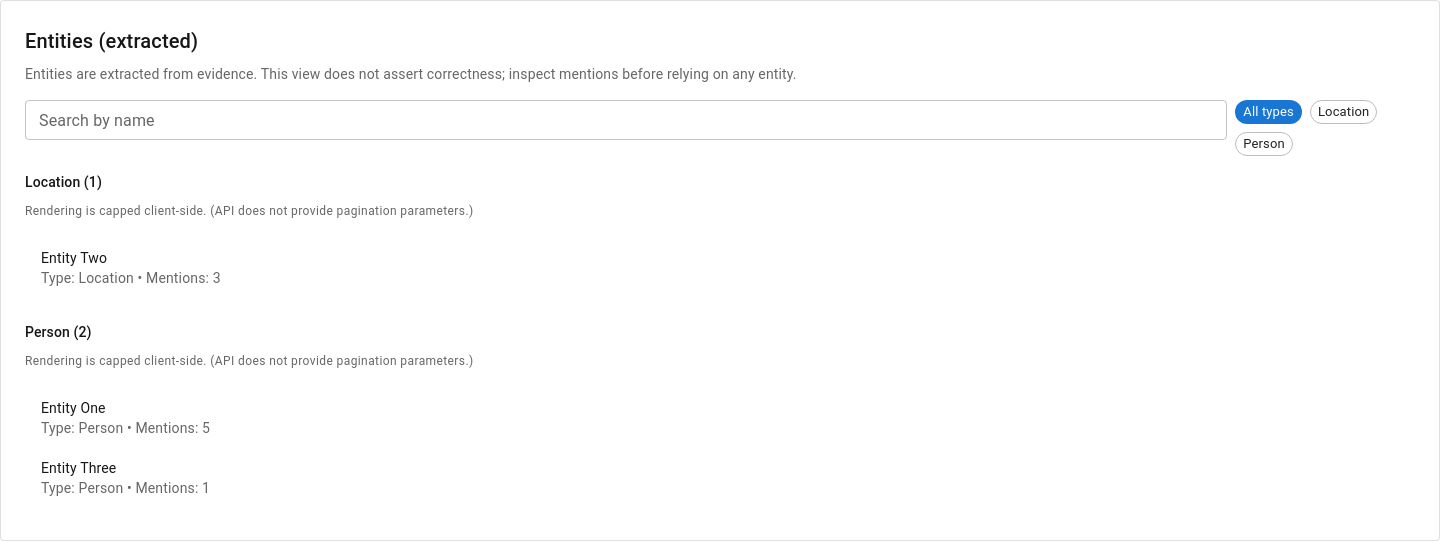
Test: EntityList › filters entities by search query
Type "Two" into the field labelled "Search by name" at (626, 120), box x1=25 y1=100 x2=1227 y2=140
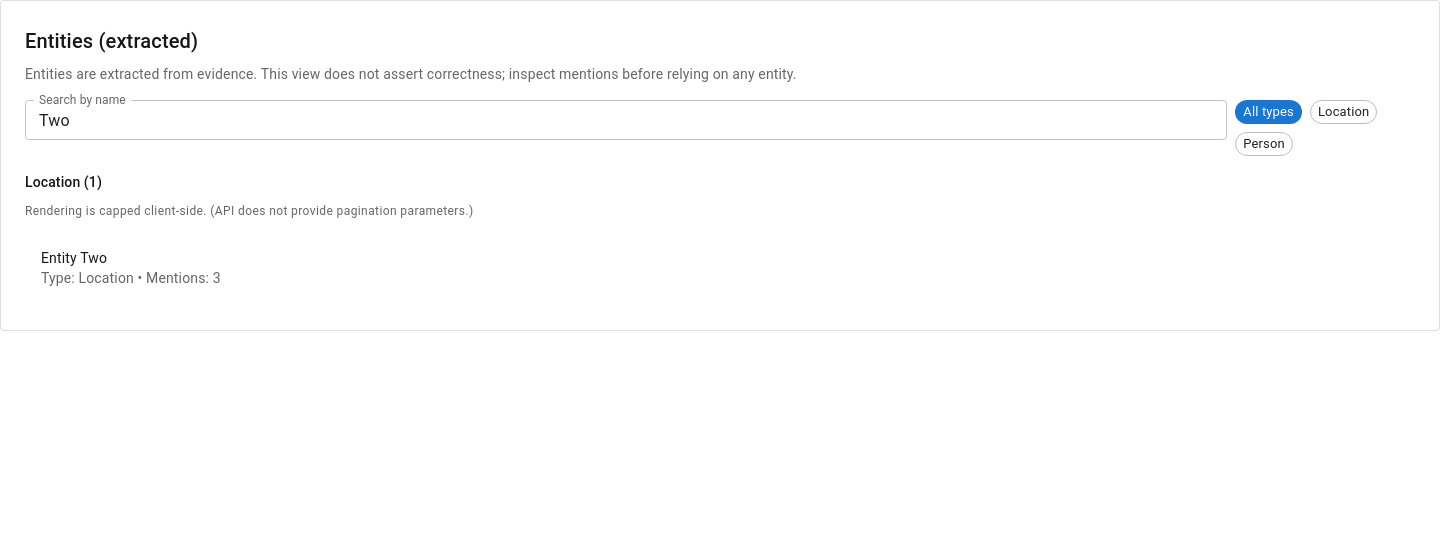
Expected: the text "Entity Two" is shown, x1=41 y1=250 x2=107 y2=266
Now the link "Entity One" is gone
